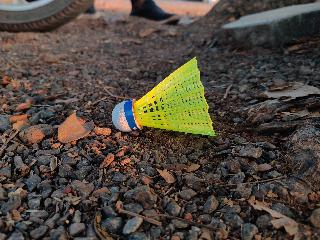shuttlecock: (111, 57, 215, 136)
